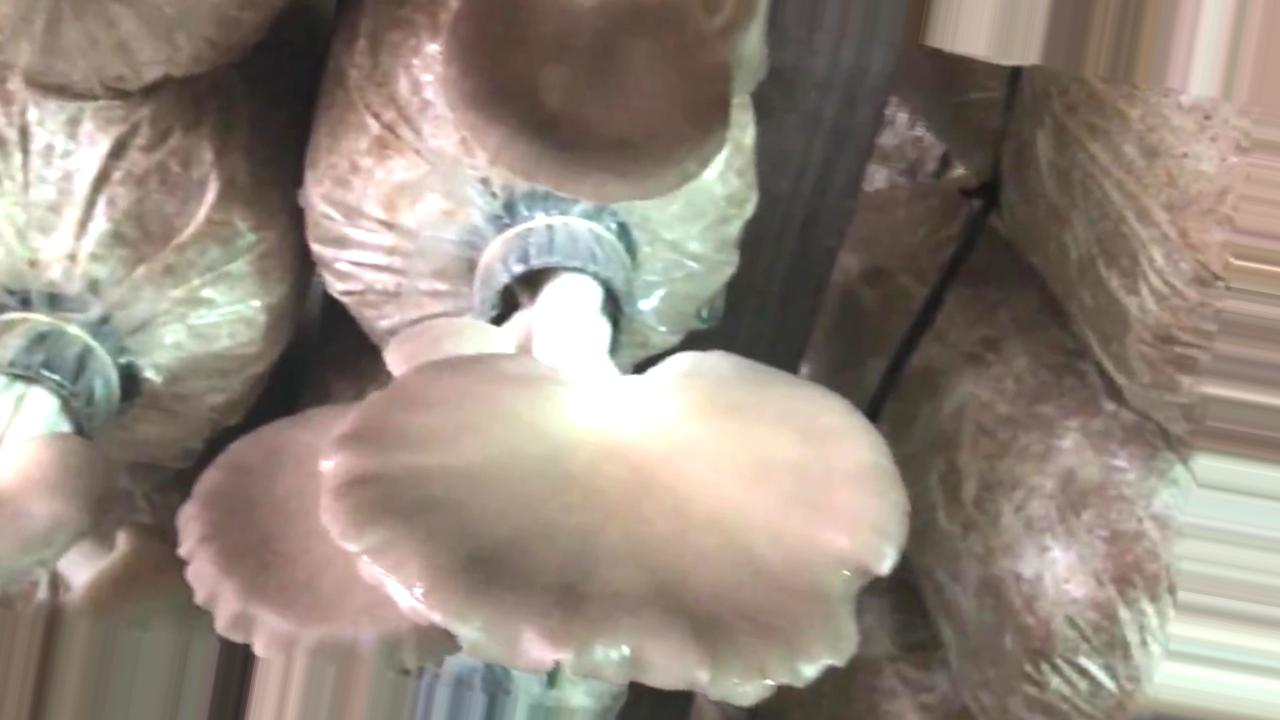nam: (317, 213, 910, 710), (171, 396, 432, 659), (444, 1, 734, 209), (1, 306, 123, 570)
